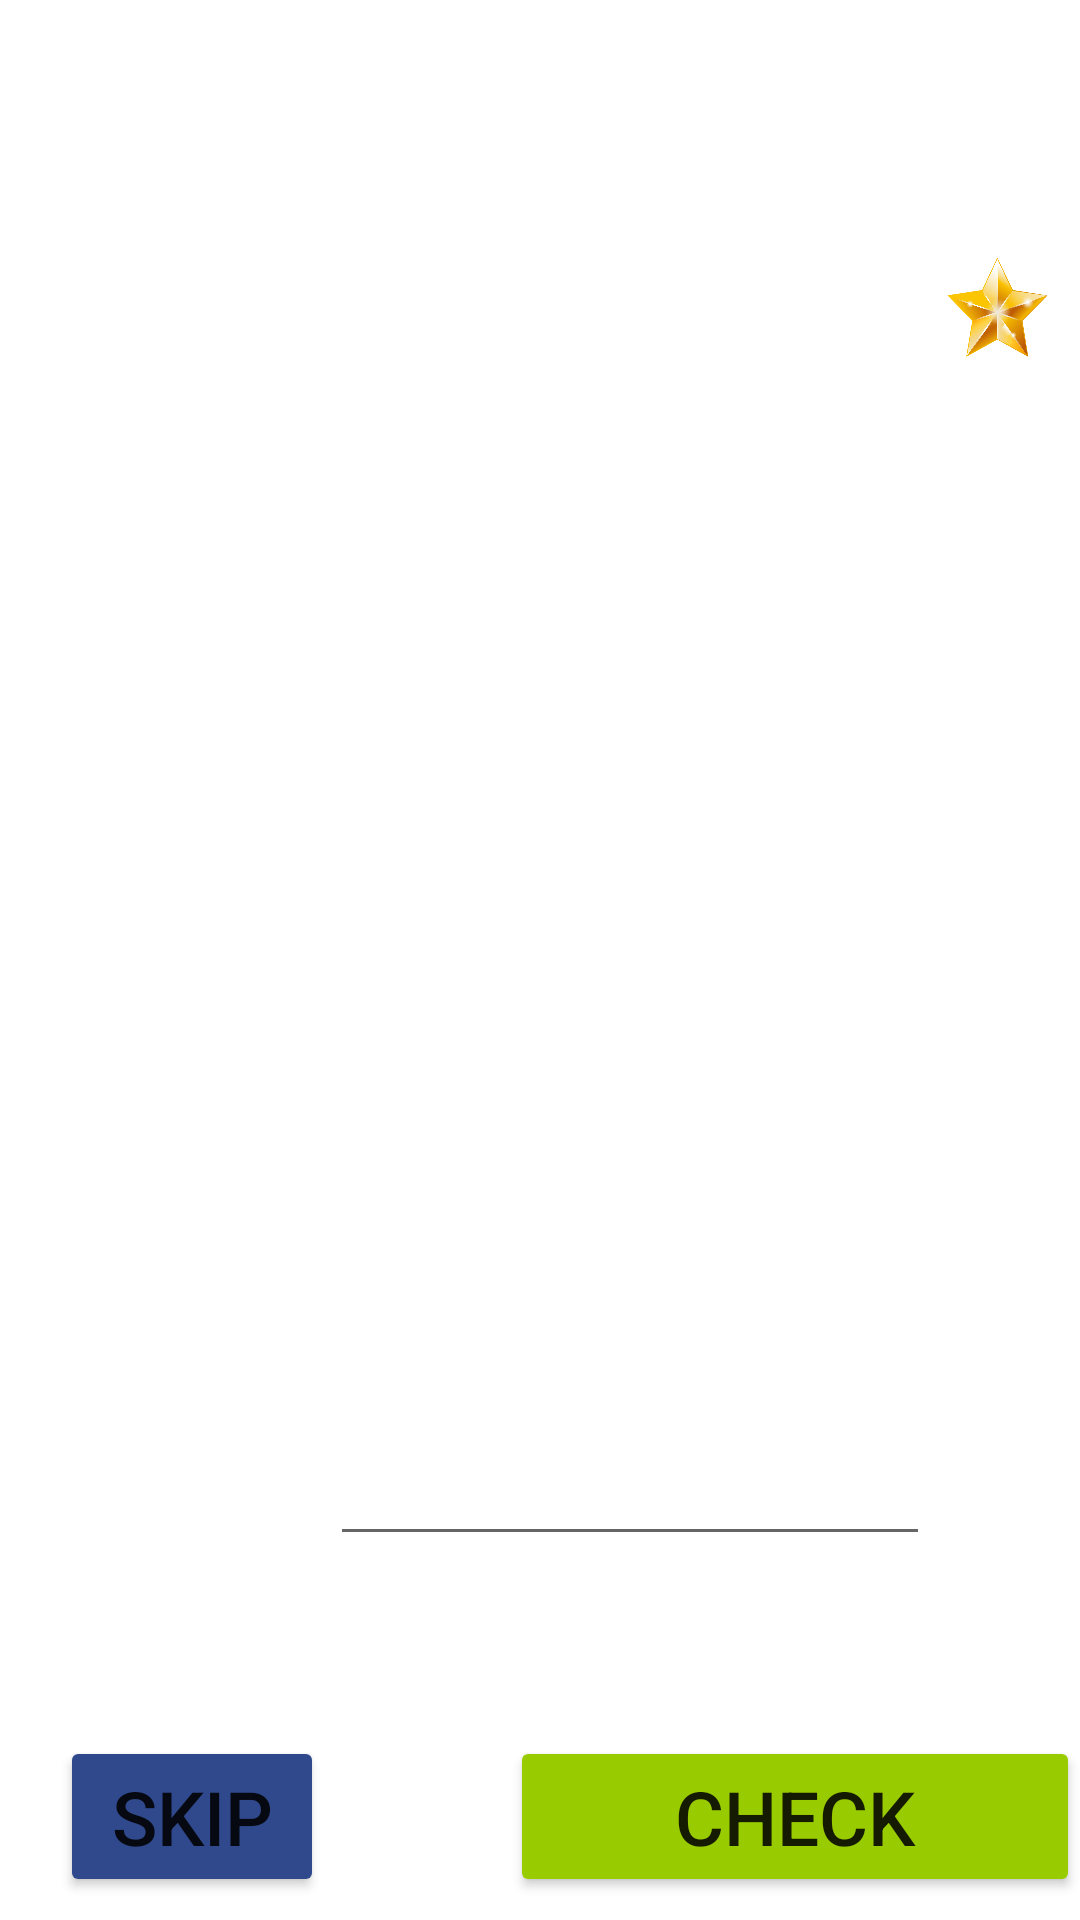

Icons on this 1080 × 1920 Android screen, each with the point to tap as [x,y]:
star: [997,307]
